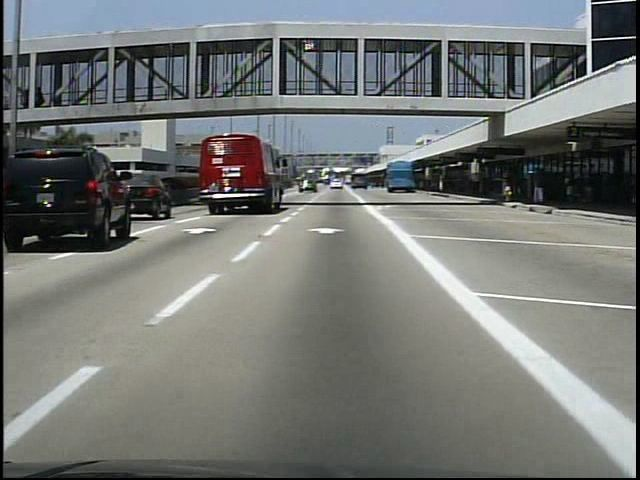person: (562, 169, 580, 209), (470, 172, 481, 194)
